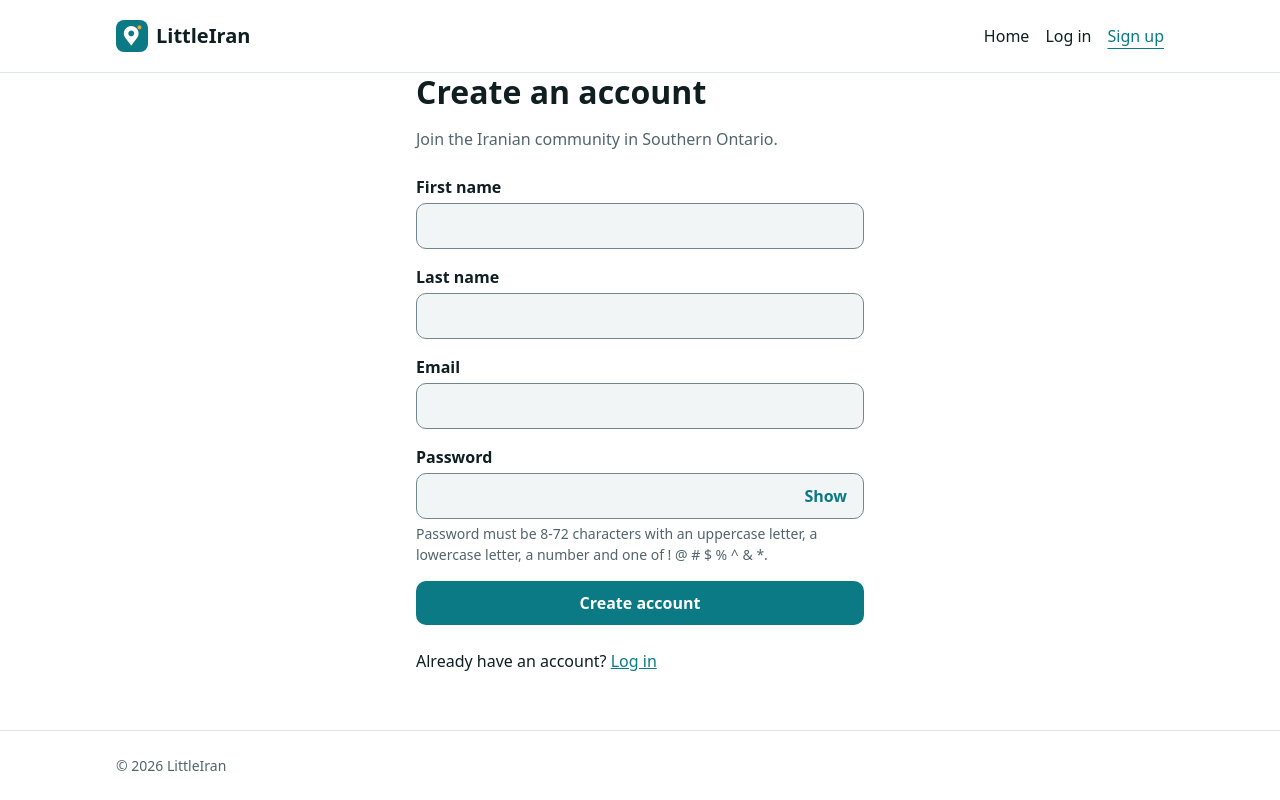
Test: Registration › rejects a weak password before sending anything
This screenshot has width=1280, height=800.
Type "Cypress" into the field labelled "First name".
click(640, 226); type("Cypress")  # box [417,204,863,248]
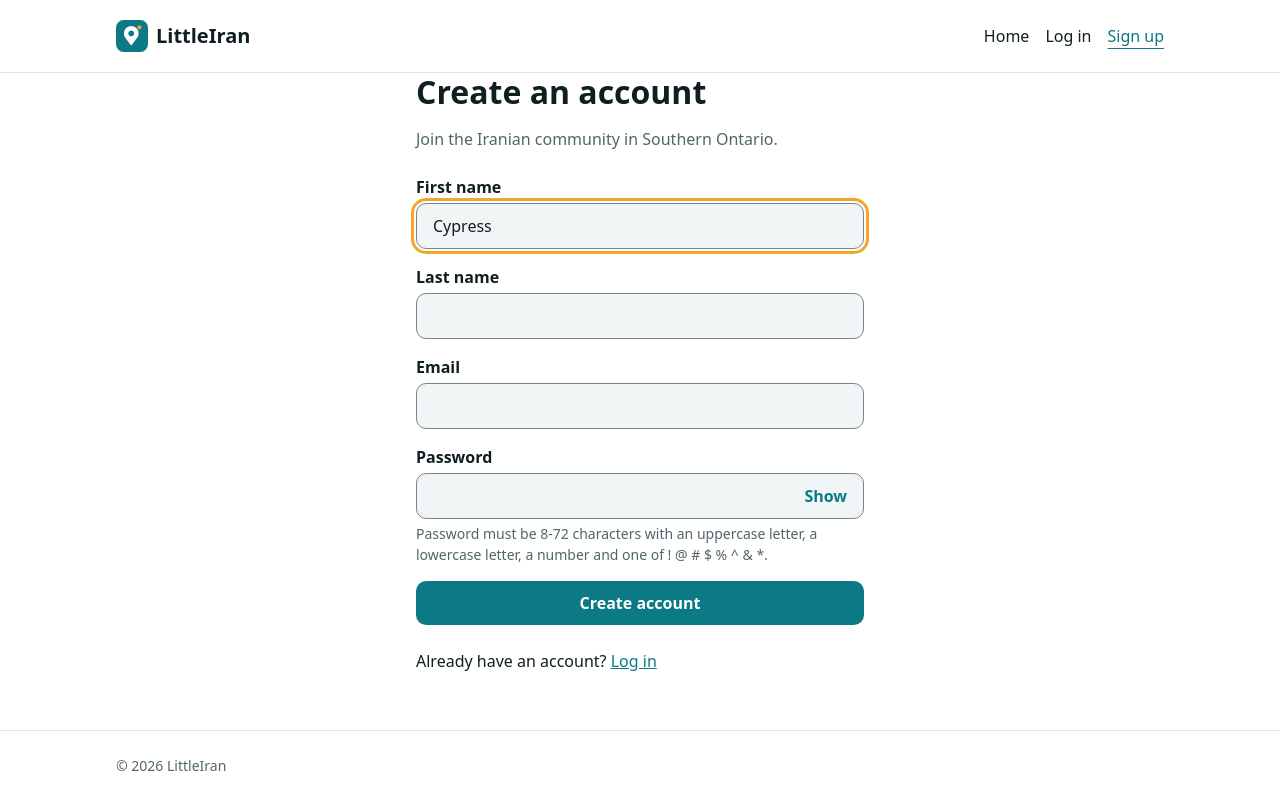
Type "Tester" into the field labelled "Last name".
click(640, 316); type("Tester")  # box [417,294,863,338]
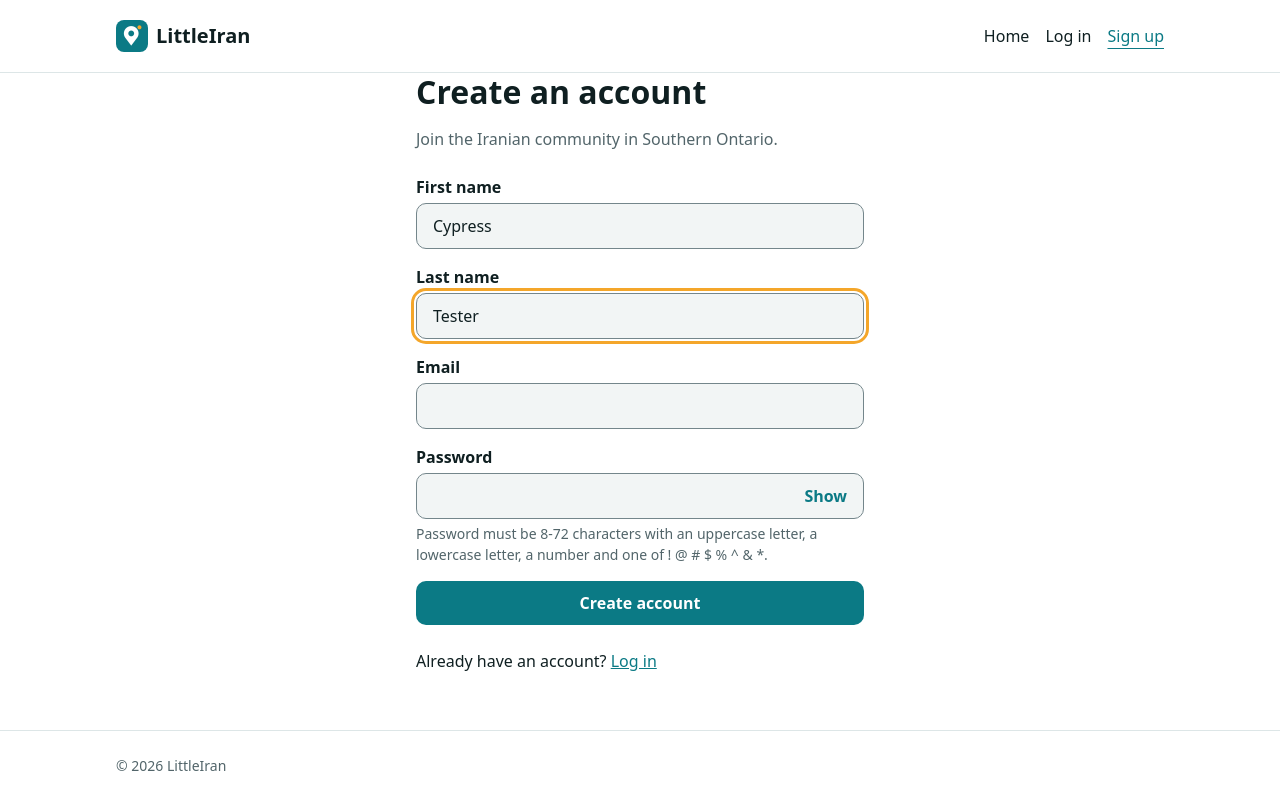
Type "weak@example.com" into the field labelled "Email".
click(640, 406); type("weak@example.com")  # box [417,384,863,428]
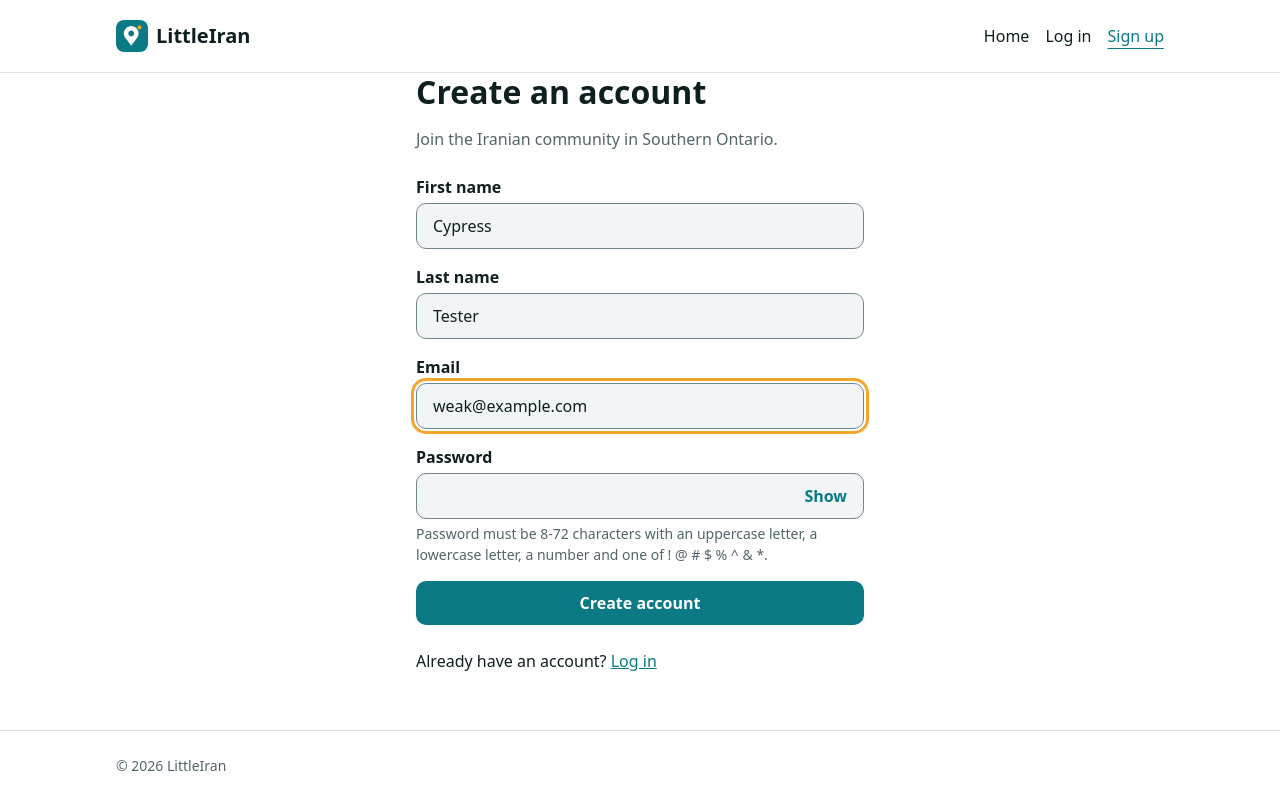
Type "weak" into the password field labelled "Password".
click(603, 496); type("weak")  # box [417,474,788,518]
Then press Enter
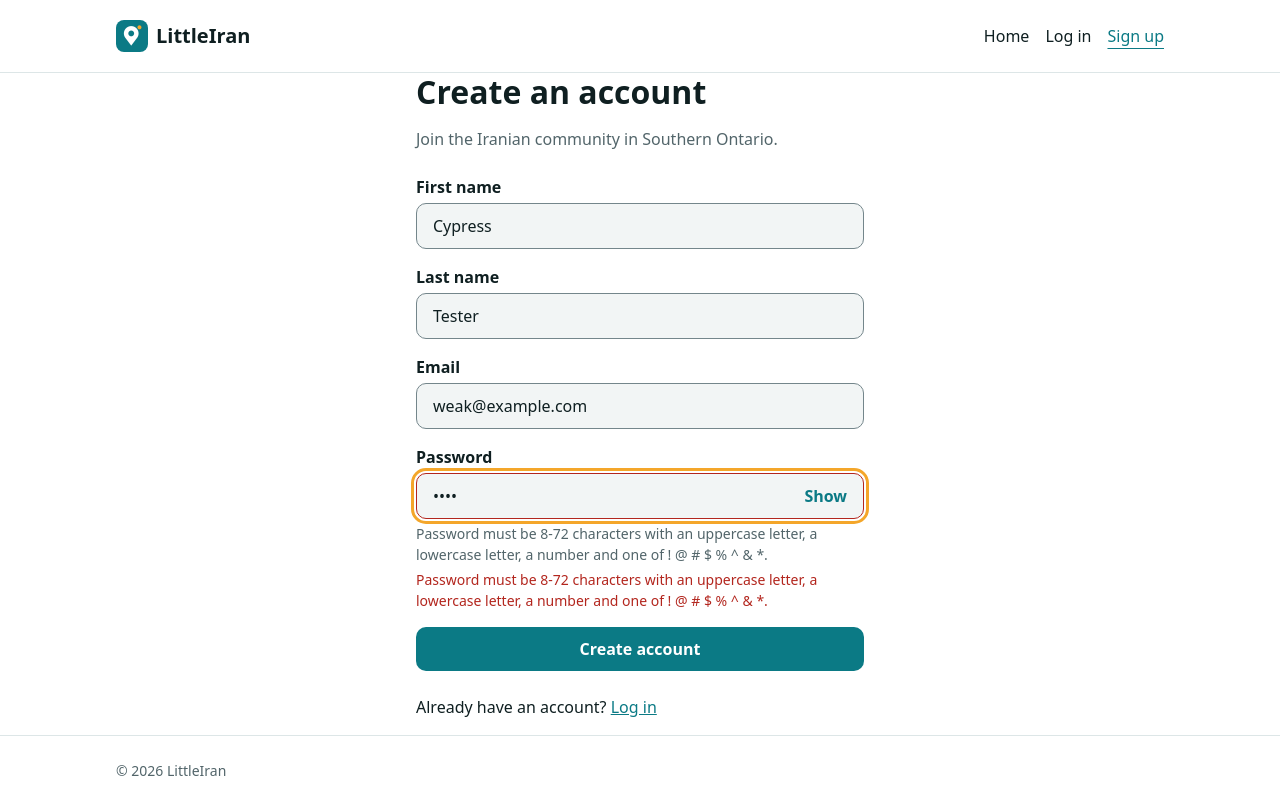
Expected: the 2nd text "Password must be 8-72 characters" is shown, [416,570,817,610]
